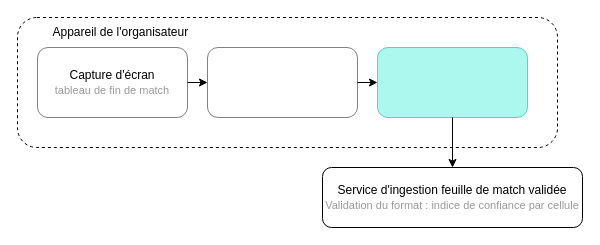
Some shapes in this 600 by 245 pixel diagram are drawn without their labels. The centre of each missing label's shape, as x and y in pixels:
Chiffre relus corrigeable avant l'envoi: (452,82)
Lecture locale OCR classique + géométrie mesurée: (282,82)
